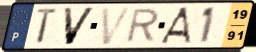1: (199, 6, 218, 45)
A: (158, 6, 192, 46)
R: (123, 7, 162, 44)
T: (35, 7, 60, 46)
V: (62, 6, 98, 47), (100, 6, 135, 47)
